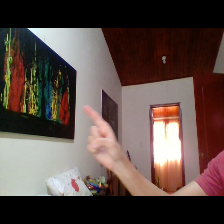2T: (76, 101, 128, 171)
